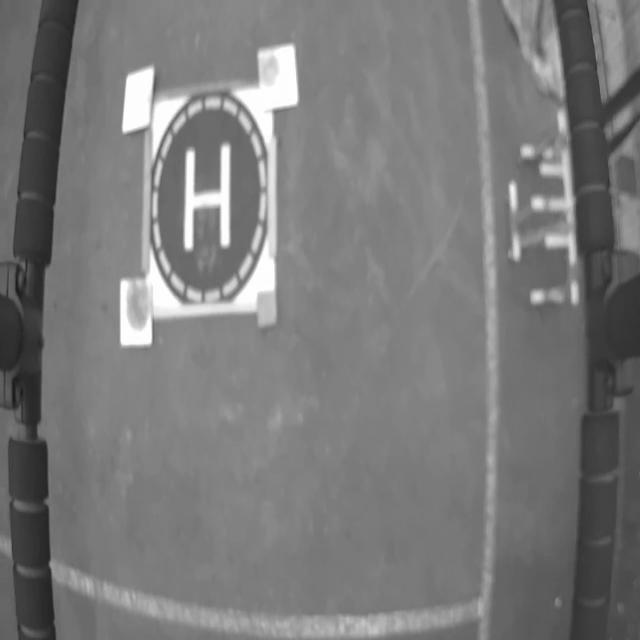Helipad: (184, 142, 232, 253)
